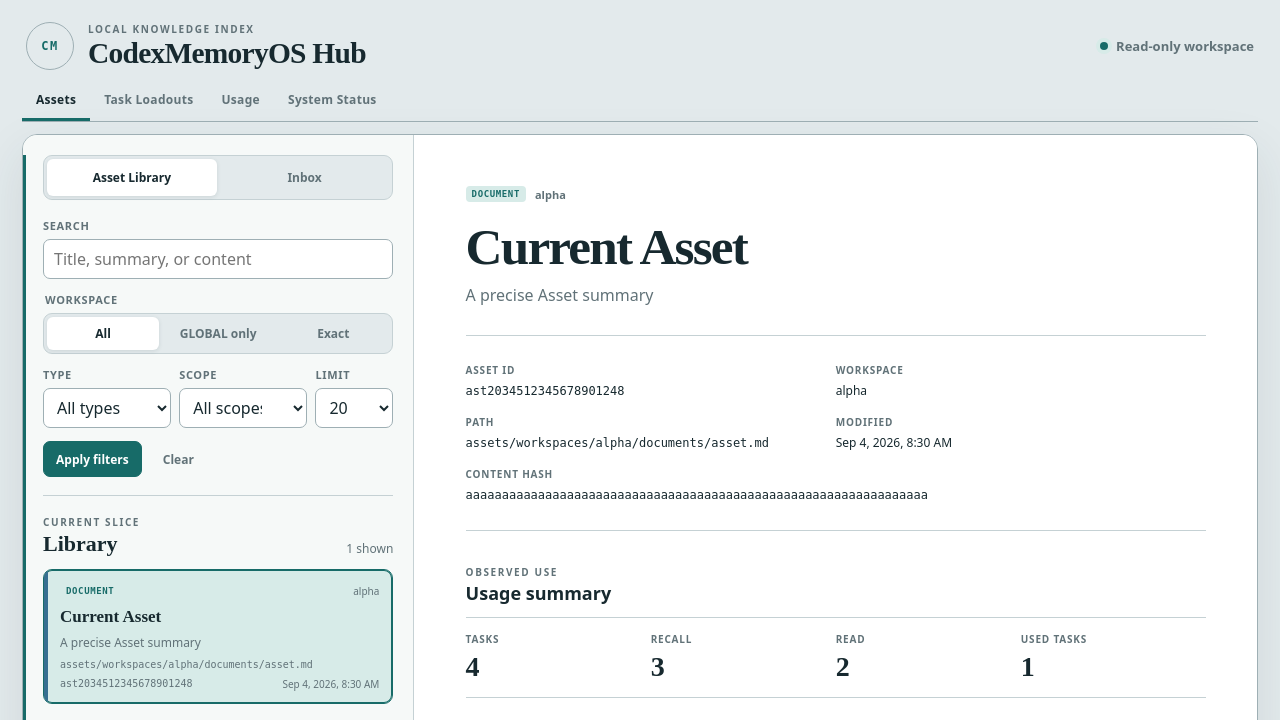
it: Asset Desk › switches among the four read-only Hub views without a router
Click the button "Task Loadouts".
click(149, 102)  # box [90,82,208,121]
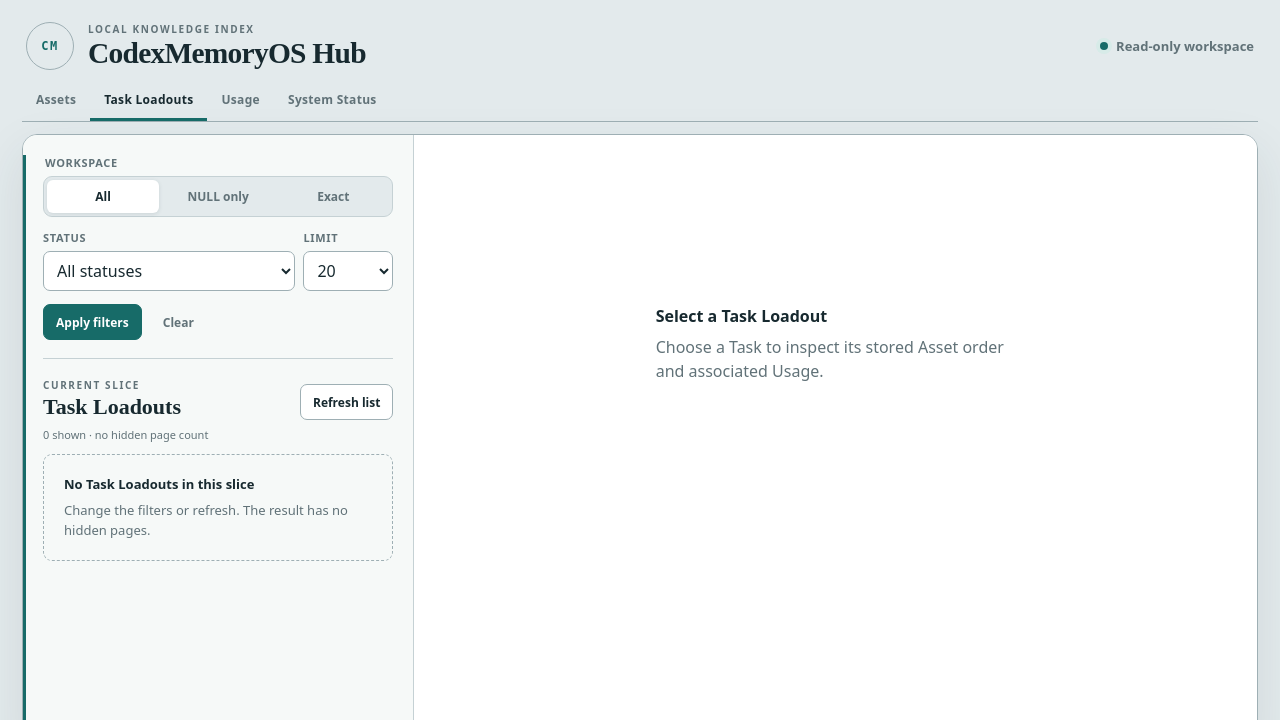
Now the text "No Task Loadouts in this slice" is shown, box [64,475,254,493]
Click the button "Usage".
click(241, 102)  # box [208,82,274,121]
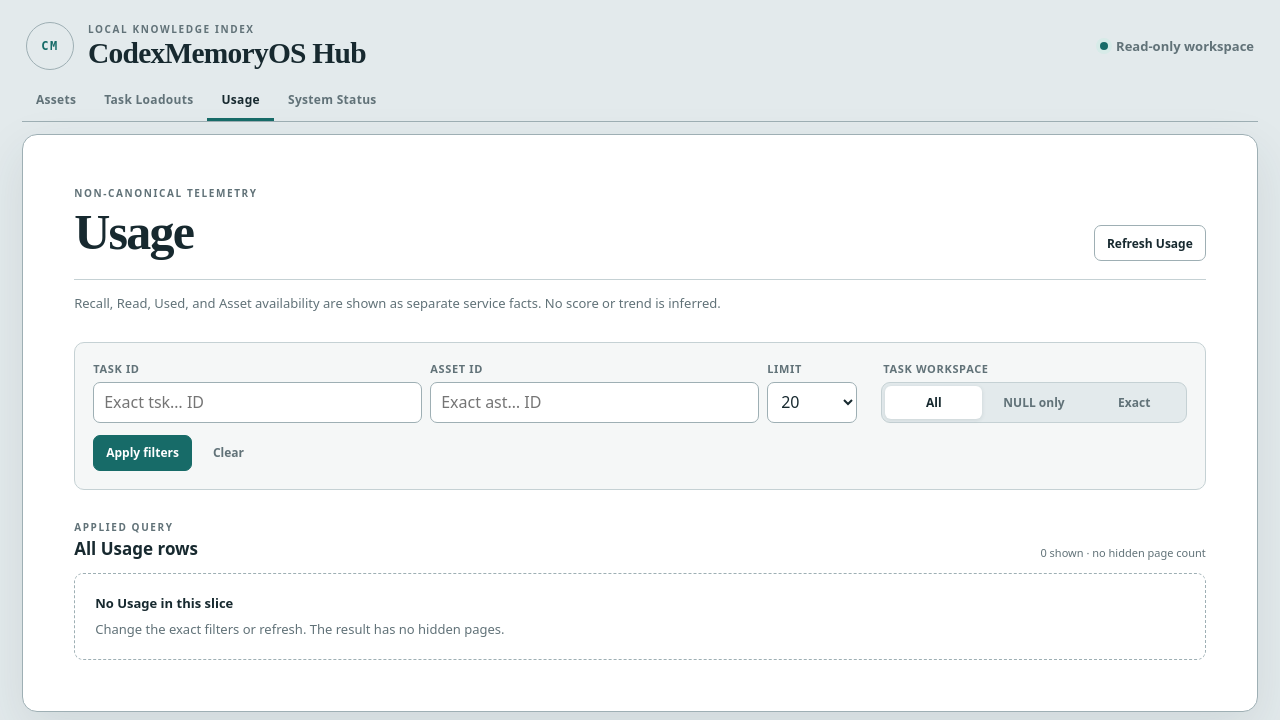
Now the text "No Usage in this slice" is shown, box [95,594,233,612]
Click the button "System Status".
click(332, 102)  # box [274,82,391,121]
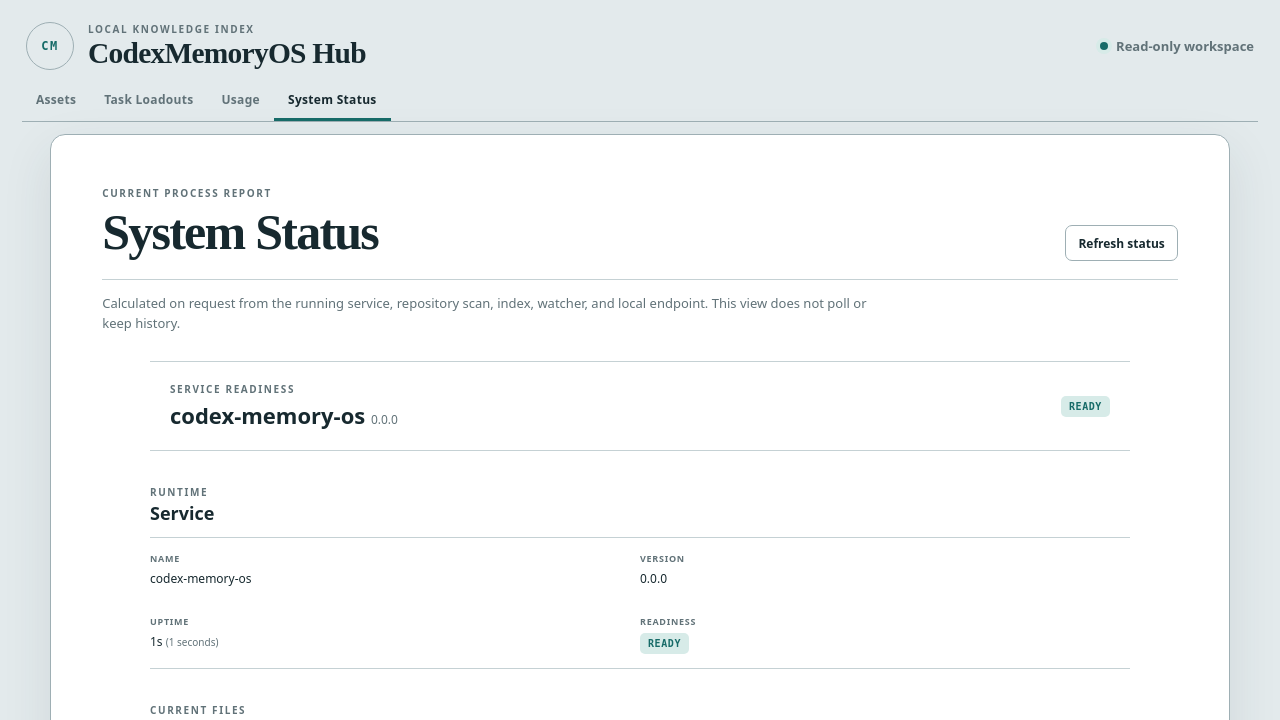
Now the text "Current process report" is shown, box [102,186,272,200]
